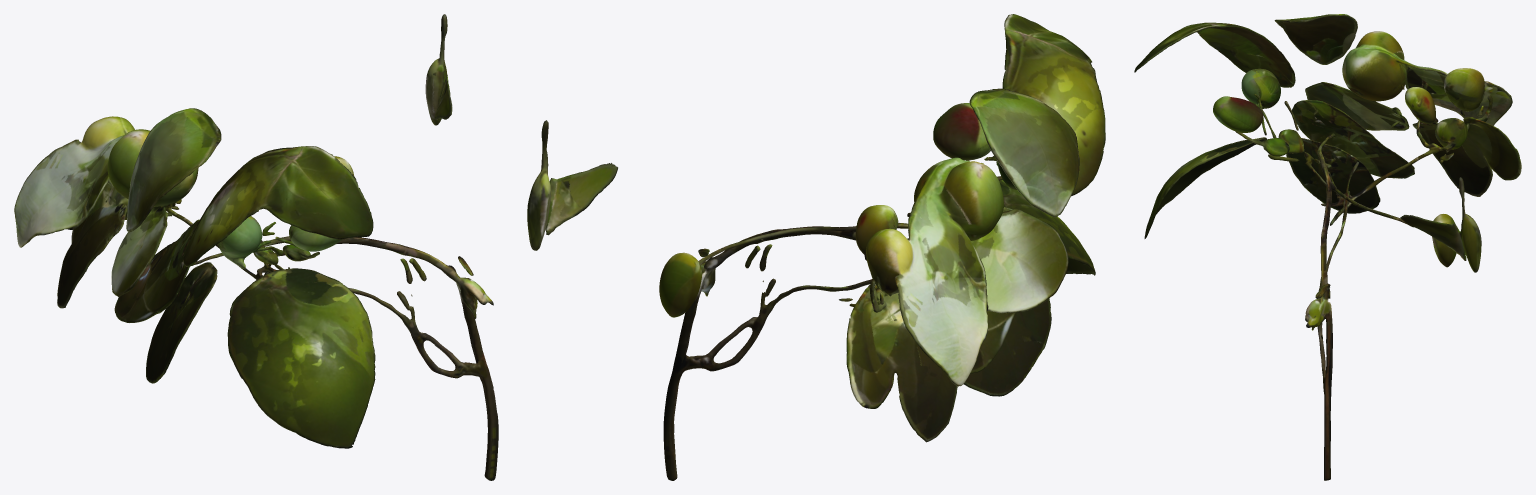
The model's file is SHRUB0032.gltf.
3 views of the same model, side by side, from view 1: azimuth 30°, elevation 25°; view 2: azimuth 150°, elevation 25°; view 3: azimuth 270°, elevation 25° (orthographic). The views are drawn at different scales.
Parts seen in each view (by area): view 1: Mesh_0.039; view 2: Mesh_0.039; view 3: Mesh_0.039.
Boxes of the visible parts, left/top/right/bottom form: Mesh_0.039: left=14, top=14, right=498, bottom=480; Mesh_0.039: left=527, top=14, right=1105, bottom=480; Mesh_0.039: left=1134, top=14, right=1521, bottom=480.
Size of the model in its own units: 1.97 by 1.99 by 1.95.
1 material, 1 textured.
